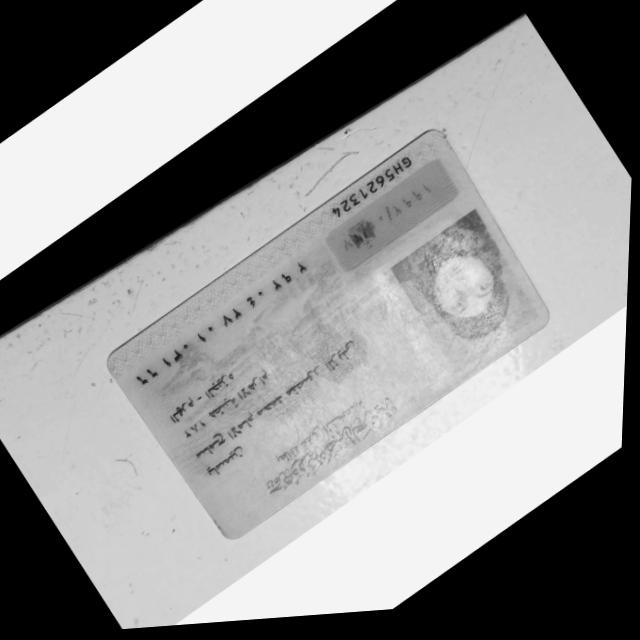id_card: (108, 132, 550, 539)
